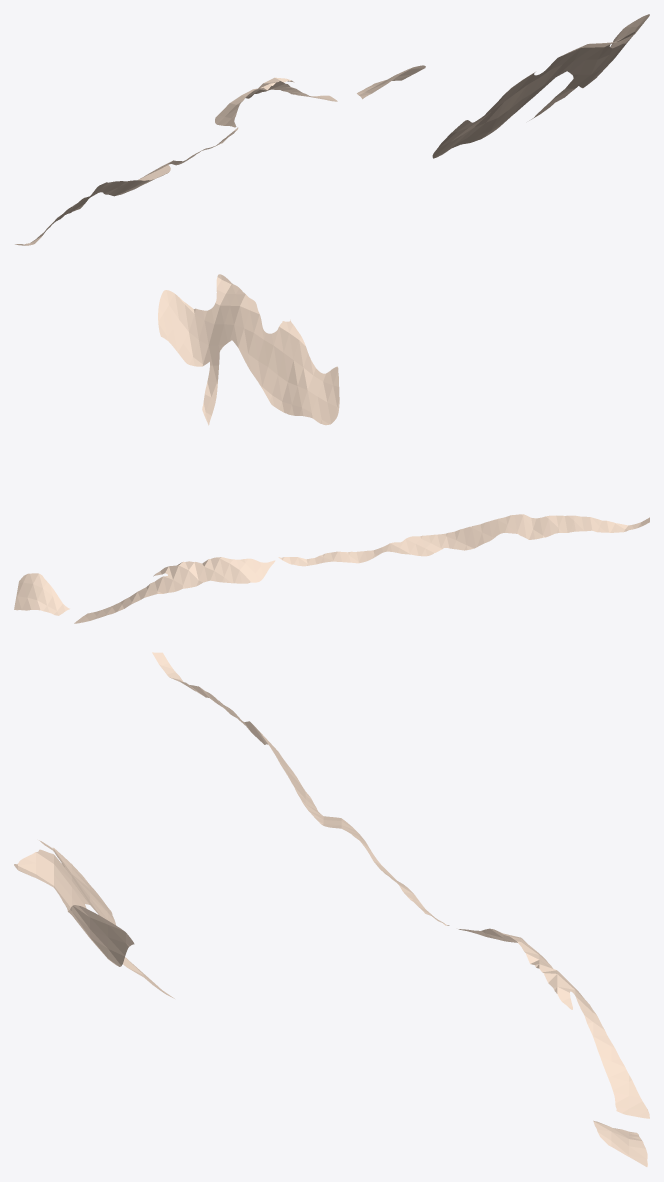
Rendered from 3_Sandy (1).dae.
3 views of the same model, one above another, from view 1: azimuth 30°, elevation 25°; view 2: azimuth 150°, elevation 25°; view 3: azimuth 270°, elevation 25° (orthographic). The views are drawn at different scales.
Visible parts, largest first — view 1: Object (×4); view 2: Object (×4); view 3: Object (×4).
Part boxes in pixels (left/top/right/bottom): Object (×4): left=15, top=14, right=649, bottom=245; Object (×4): left=14, top=274, right=649, bottom=623; Object (×4): left=14, top=652, right=649, bottom=1166.
Bounding box in the file's own units: 44.62 × 15.78 × 30.53.
